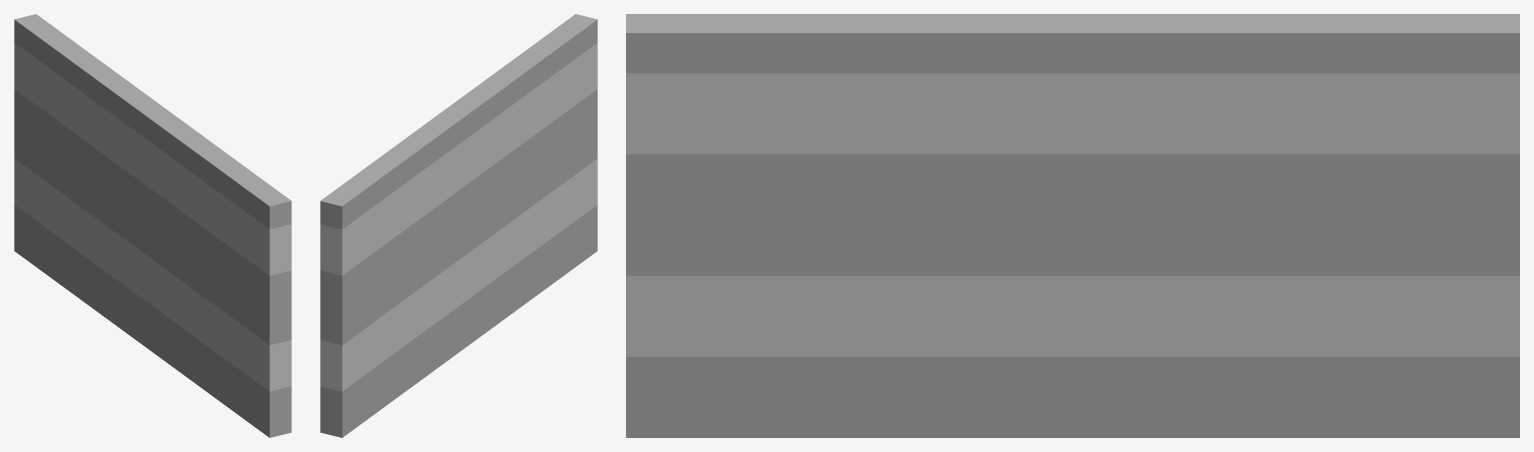
Rendered from dirt_wall_D_20.obj.
The picture shows the model from 3 angles, left to right: view 1: azimuth 30°, elevation 25°; view 2: azimuth 150°, elevation 25°; view 3: azimuth 270°, elevation 25°; orthographic projection. The views are drawn at different scales.
Bounding box in the file's own units: 0.1 × 1 × 2.
1 material, 1 textured.
